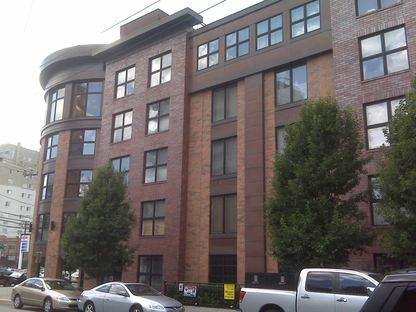car: (77, 280, 186, 312), (360, 264, 416, 312), (10, 277, 80, 312)
truck: (245, 268, 387, 308), (0, 269, 25, 287)
